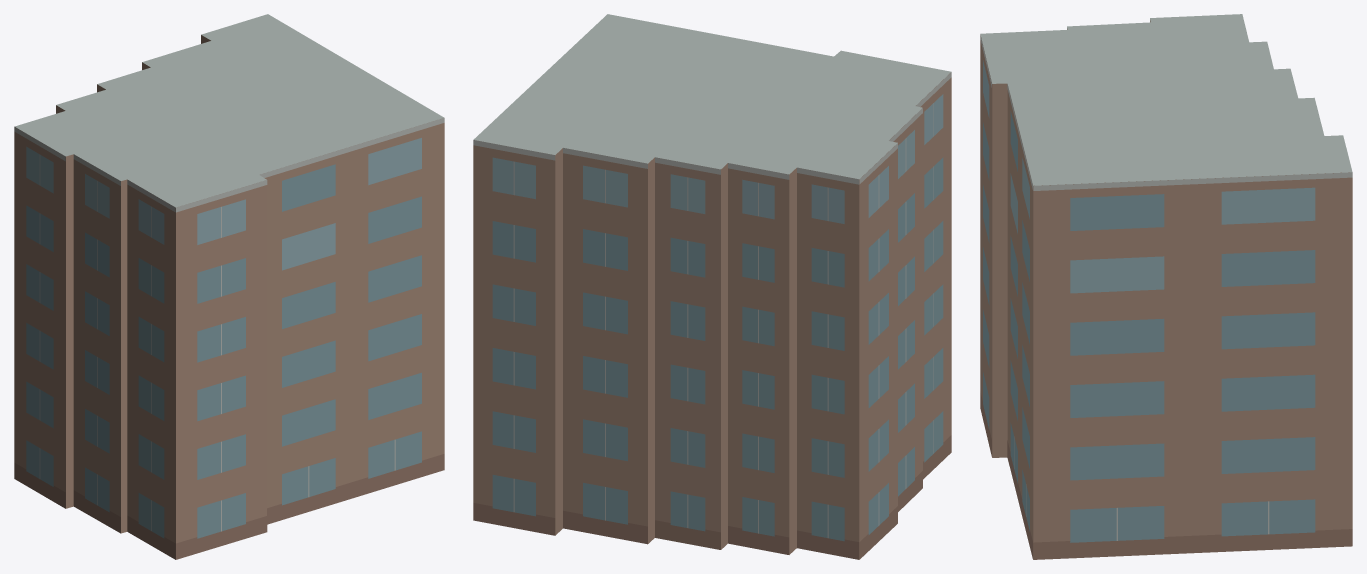
Rendered from survey-upis-32953566.glb.
3 views of the same model, side by side, from view 1: azimuth 30°, elevation 25°; view 2: azimuth 150°, elevation 25°; view 3: azimuth 270°, elevation 25° (orthographic). The views are drawn at different scales.
Visible parts, largest first — view 1: survey-upis-32953566.tmp; view 2: survey-upis-32953566.tmp; view 3: survey-upis-32953566.tmp.
Part boxes in pixels (<box>): survey-upis-32953566.tmp: <box>14,14,444,559</box>; survey-upis-32953566.tmp: <box>473,14,951,559</box>; survey-upis-32953566.tmp: <box>980,14,1352,559</box>.
Bounding box in the file's own units: 16.9 × 17.15 × 15.48.
